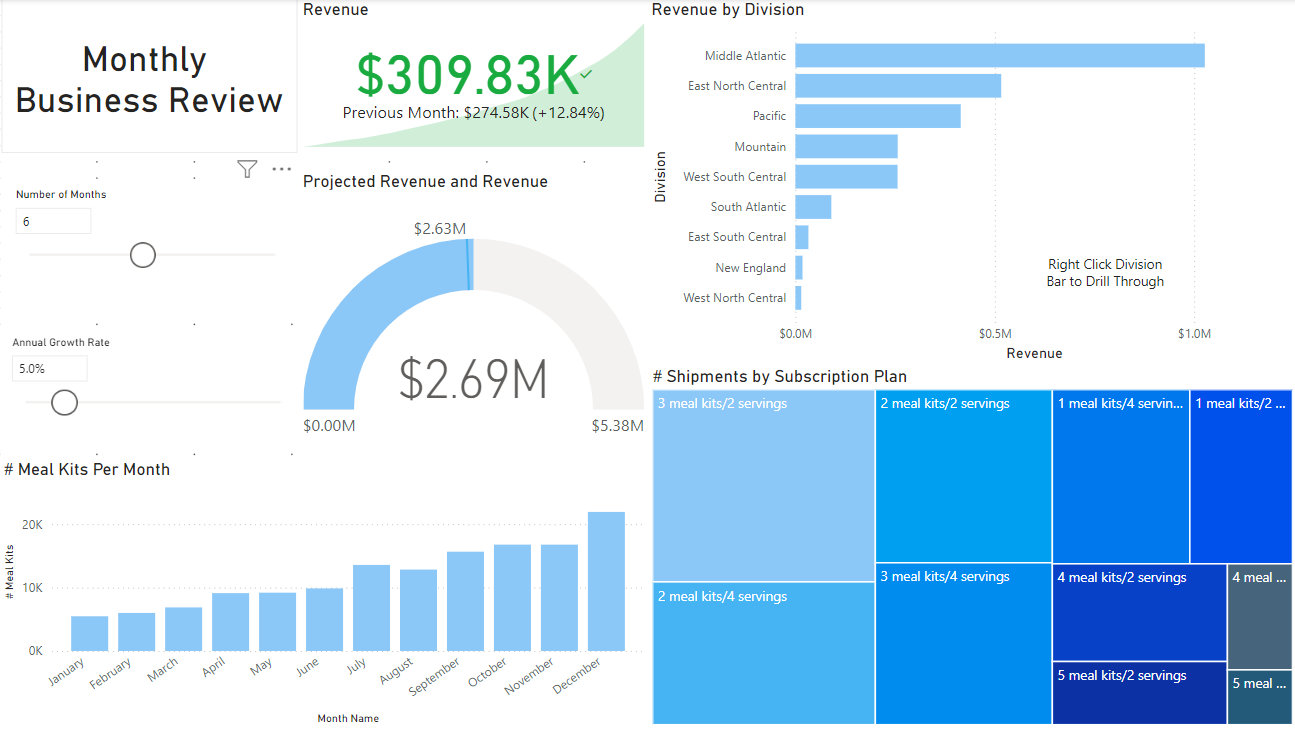

The dashboard page shown, as its layout file describes it:
{"tool":"powerbi","page":{"name":"Dashboard","canvas":[1280,720],"ordinal":0},"visuals":[{"type":"clusteredBarChart","fields":{"Category":["States.Division"],"Y":["MeasuresTable.Revenue"]},"box":[638.1,0,640,361.4],"z":0},{"type":"kpi","title":"Revenue","fields":{"Indicator":["MeasuresTable.Revenue"],"TrendLine":["Calendar.Start of Month"],"Goal":["MeasuresTable.Revenue Previous Month"]},"box":[294,0,346.5,151],"z":1000},{"type":"gauge","fields":{"Y":["MeasuresTable.Projected Revenue"],"TargetValue":["MeasuresTable.Revenue"]},"box":[294,168.5,346.5,284.5],"z":2000},{"type":"treemap","title":"# Shipments by Subscription Plan","fields":{"Group":["Subscription Plans.SubscriptionPlanDesc"],"Values":["MeasuresTable.# Shipments"]},"box":[638.2,360.9,640,359.1],"z":3000},{"type":"clusteredColumnChart","title":"# Meal Kits Per Month","fields":{"Category":["Calendar.Month Name","Calendar.Day Name"],"Y":["MeasuresTable.# Meal Kits"]},"box":[0,453,640.5,267],"z":4000},{"type":"slicer","fields":{"Values":["Number of Months.Number of Months"]},"box":[3.2,181.2,290.9,130.3],"z":5000},{"type":"slicer","fields":{"Values":["Annual Growth Rate.Annual Growth Rate"]},"box":[0,325.8,300.4,116],"z":6000},{"type":"card","fields":{"Values":["MeasuresTable.MonthlyBusinessReview"]},"box":[3,0,291,151],"z":7000},{"type":"textbox","box":[1019.7,246.5,140.1,46.7],"z":7001}]}

Visuals, with their boxes in screenshot pixels (x1, y1, x2, y2), scaled from the page's 1280x720 canvas onto the 1295x729 screenshot:
clusteredBarChart - States.Division x MeasuresTable.Revenue: detection(646, 0, 1293, 366)
"Revenue" kpi: detection(297, 0, 648, 153)
gauge - MeasuresTable.Projected Revenue x MeasuresTable.Revenue: detection(297, 171, 648, 459)
"# Shipments by Subscription Plan" treemap: detection(646, 365, 1293, 728)
"# Meal Kits Per Month" clusteredColumnChart: detection(0, 459, 648, 728)
slicer - Number of Months.Number of Months: detection(3, 183, 298, 315)
slicer - Annual Growth Rate.Annual Growth Rate: detection(0, 330, 304, 447)
card - MeasuresTable.MonthlyBusinessReview: detection(3, 0, 297, 153)
textbox: detection(1032, 250, 1173, 297)
